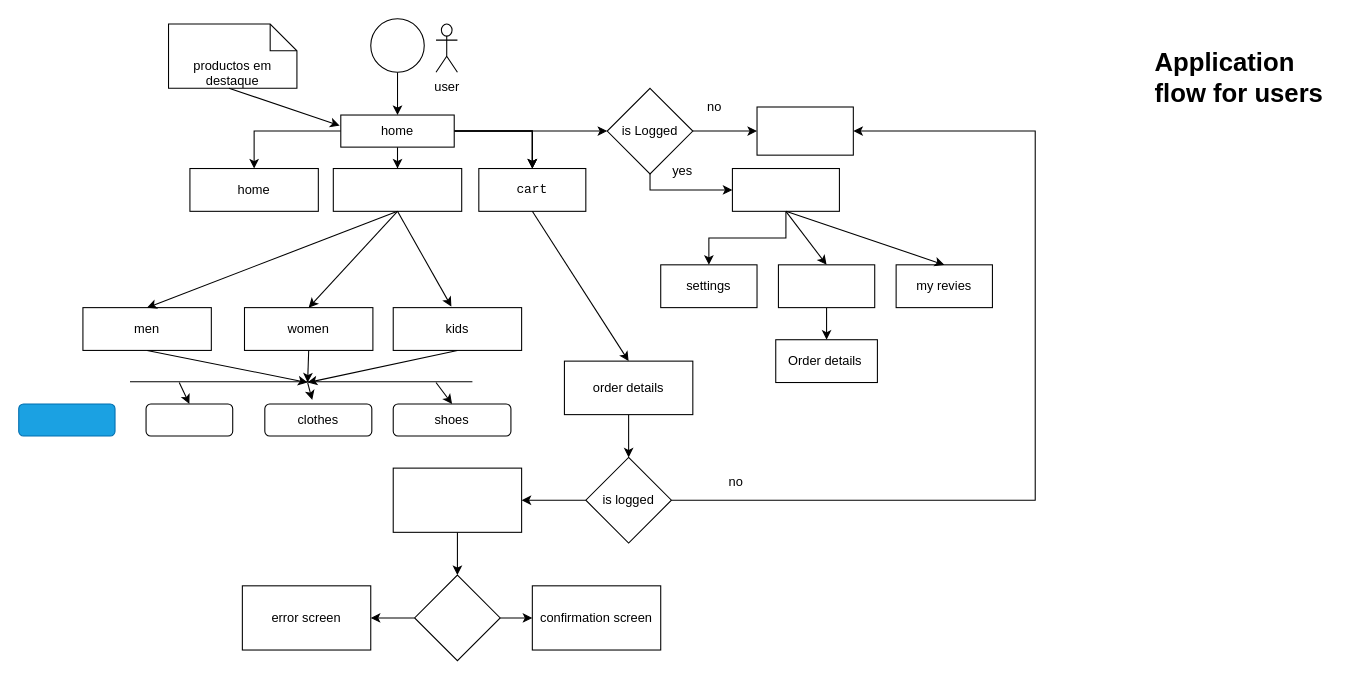
Some shapes in this 1364 by 679 pixel diagram are drawn without their labels. Here are the shapes that lost their labels. From the top down, the centre of each, then its label:
At [397,45]: "init".
At [804,130]: "Login/Register".
At [397,189]: "category".
At [785,189]: "perfil".
At [826,286]: "my orders".
At [66,419]: "othes".
At [189,419]: "new".
At [457,499]: "payment settings".
At [457,617]: "sucess ?".
